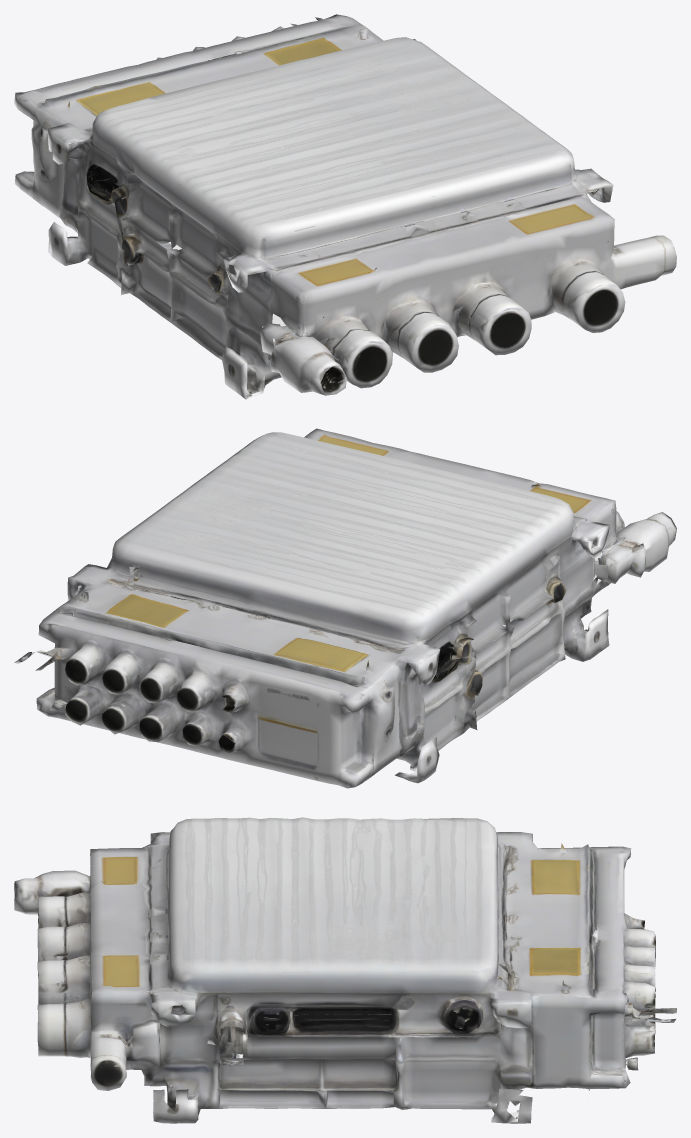
Rendered from Electrical_Control_VCU_0417062918_texture.glb.
3 views of the same model, one above another, from view 1: azimuth 30°, elevation 25°; view 2: azimuth 150°, elevation 25°; view 3: azimuth 270°, elevation 25° (orthographic). The views are drawn at different scales.
Bounding box in the file's own units: 1.35 × 0.4956 × 2.
Materials: 1 (1 with a texture image).
